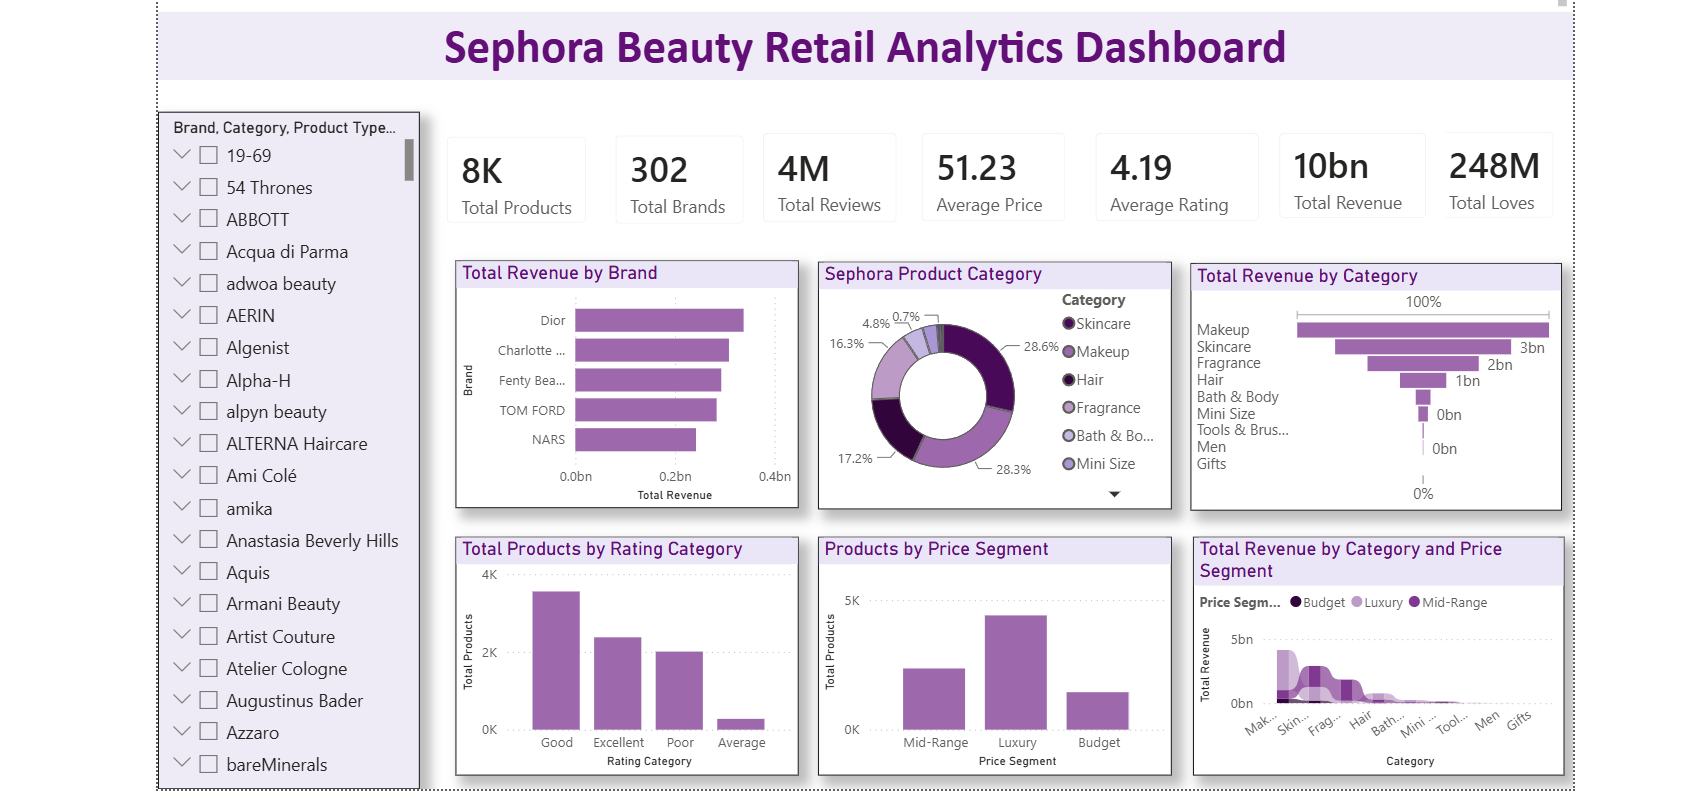

This screenshot's page, from the dashboard's own definition file:
{"tool":"powerbi","page":{"name":"Executive Dashboard","canvas":[1280,720],"ordinal":0},"visuals":[{"type":"cardVisual","fields":{"Data":["Sephora Products.Total Products"]},"box":[244.3,112.9,160,112.9],"z":0},{"type":"cardVisual","fields":{"Data":["Sephora Products.Total Brands"]},"box":[397.1,111.4,150,114.3],"z":1000},{"type":"cardVisual","fields":{"Data":["Sephora Products.Average Price"]},"box":[674.3,110,164.3,114.3],"z":2000},{"type":"cardVisual","fields":{"Data":["Sephora Products.Average Rating"]},"box":[831.4,110,182.9,114.3],"z":3000},{"type":"cardVisual","fields":{"Data":["Sephora Products.Total Reviews"]},"box":[530,110,155.7,115.7],"z":4000},{"type":"cardVisual","fields":{"Data":["Sephora Products.Total Loves"]},"box":[1137.1,108.6,142.9,112.9],"z":5000},{"type":"cardVisual","fields":{"Data":["Sephora Products.Total Revenue"]},"box":[997.1,110,167.1,111.4],"z":6000},{"type":"clusteredBarChart","fields":{"Category":["Sephora Products.Brand"],"Y":["Sephora Products.Total Revenue"]},"box":[268.6,241.4,310,224.3],"z":7000},{"type":"donutChart","title":"Sephora Product Category","fields":{"Category":["Sephora Products.Category"],"Y":["Sephora Products.Total Products"]},"box":[597.1,242.9,320,224.3],"z":8000},{"type":"clusteredColumnChart","title":"Products by Price Segment","fields":{"Category":["Sephora Products.Price Segment"],"Y":["Sephora Products.Total Products"]},"box":[597.1,491.4,320,215.7],"z":9000},{"type":"clusteredColumnChart","fields":{"Category":["Sephora Products.Rating Category"],"Y":["Sephora Products.Total Products"]},"box":[268.6,491.4,310,215.7],"z":10000},{"type":"slicer","fields":{"Values":["Sephora Products.Brand","Sephora Products.Category","Sephora Products.Product Type","Sephora Products.Price Segment","Sephora Products.Rating Category"]},"box":[0,107.1,237.1,612.9],"z":11000},{"type":"funnel","fields":{"Category":["Sephora Products.Category"],"Y":["Sephora Products.Total Revenue"]},"box":[934.3,244.3,335.7,224.3],"z":12000},{"type":"ribbonChart","fields":{"Category":["Sephora Products.Category"],"Y":["Sephora Products.Total Revenue"],"Series":["Sephora Products.Price Segment"]},"box":[935.7,491.4,335.7,215.7],"z":13000},{"type":"textbox","box":[1130,0,150,17.1],"z":14000},{"type":"textbox","box":[0,16.5,1280.3,61.7],"z":15000}]}

Visuals, with their boxes on the page's 1280x720 design canvas (x1, y1, x2, y2). These are canvas units, not pixel positions in the 1703x797 screenshot, which may show the page scaled, cropped or inside an application window:
cardVisual - Sephora Products.Total Products: [left=244, top=113, right=404, bottom=226]
cardVisual - Sephora Products.Total Brands: [left=397, top=111, right=547, bottom=226]
cardVisual - Sephora Products.Average Price: [left=674, top=110, right=839, bottom=224]
cardVisual - Sephora Products.Average Rating: [left=831, top=110, right=1014, bottom=224]
cardVisual - Sephora Products.Total Reviews: [left=530, top=110, right=686, bottom=226]
cardVisual - Sephora Products.Total Loves: [left=1137, top=109, right=1280, bottom=222]
cardVisual - Sephora Products.Total Revenue: [left=997, top=110, right=1164, bottom=221]
clusteredBarChart - Sephora Products.Brand x Sephora Products.Total Revenue: [left=269, top=241, right=579, bottom=466]
"Sephora Product Category" donutChart: [left=597, top=243, right=917, bottom=467]
"Products by Price Segment" clusteredColumnChart: [left=597, top=491, right=917, bottom=707]
clusteredColumnChart - Sephora Products.Rating Category x Sephora Products.Total Products: [left=269, top=491, right=579, bottom=707]
slicer - Sephora Products.Brand x Sephora Products.Category: [left=0, top=107, right=237, bottom=720]
funnel - Sephora Products.Category x Sephora Products.Total Revenue: [left=934, top=244, right=1270, bottom=469]
ribbonChart - Sephora Products.Category x Sephora Products.Total Revenue: [left=936, top=491, right=1271, bottom=707]
textbox: [left=1130, top=0, right=1280, bottom=17]
textbox: [left=0, top=16, right=1280, bottom=78]
